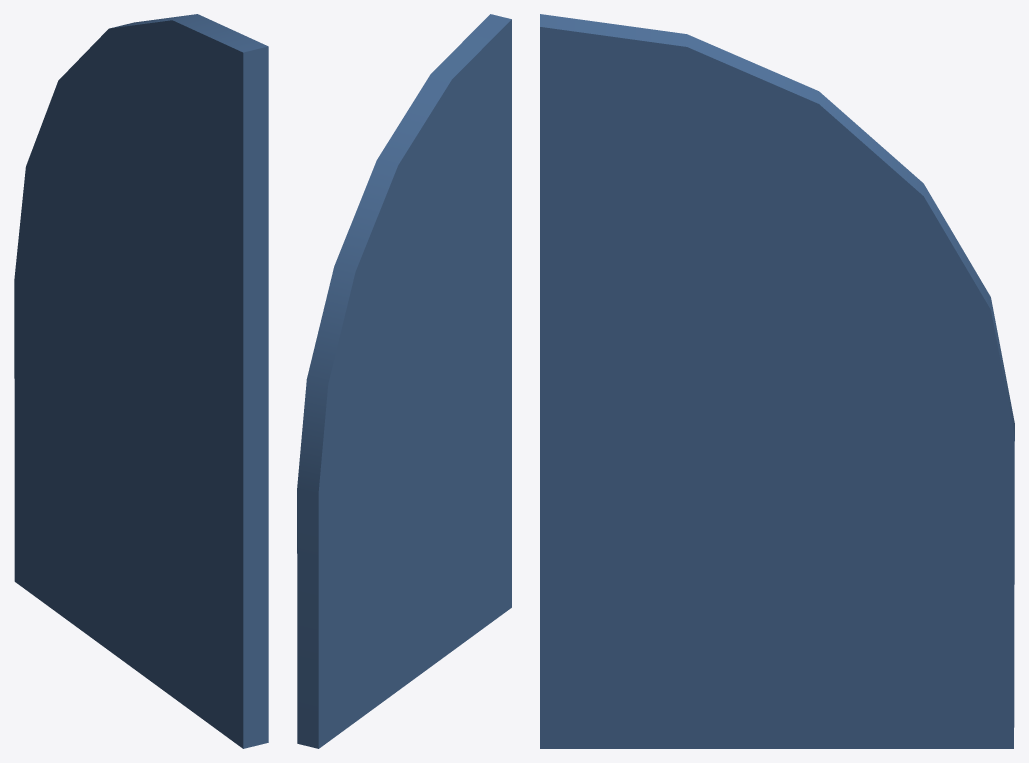
The model's file is Door_01.fbx.
The picture shows the model from 3 angles, left to right: view 1: azimuth 30°, elevation 25°; view 2: azimuth 150°, elevation 25°; view 3: azimuth 270°, elevation 25°; orthographic projection. The views are drawn at different scales.
Parts seen in each view (by area): view 1: Door_01; view 2: Door_01; view 3: Door_01.
Boxes of the visible parts, bbox=[...] form: Door_01: bbox=[14, 14, 268, 748]; Door_01: bbox=[297, 14, 511, 748]; Door_01: bbox=[540, 14, 1014, 748].
Bounding box in the file's own units: 11.52 × 302 × 180.
